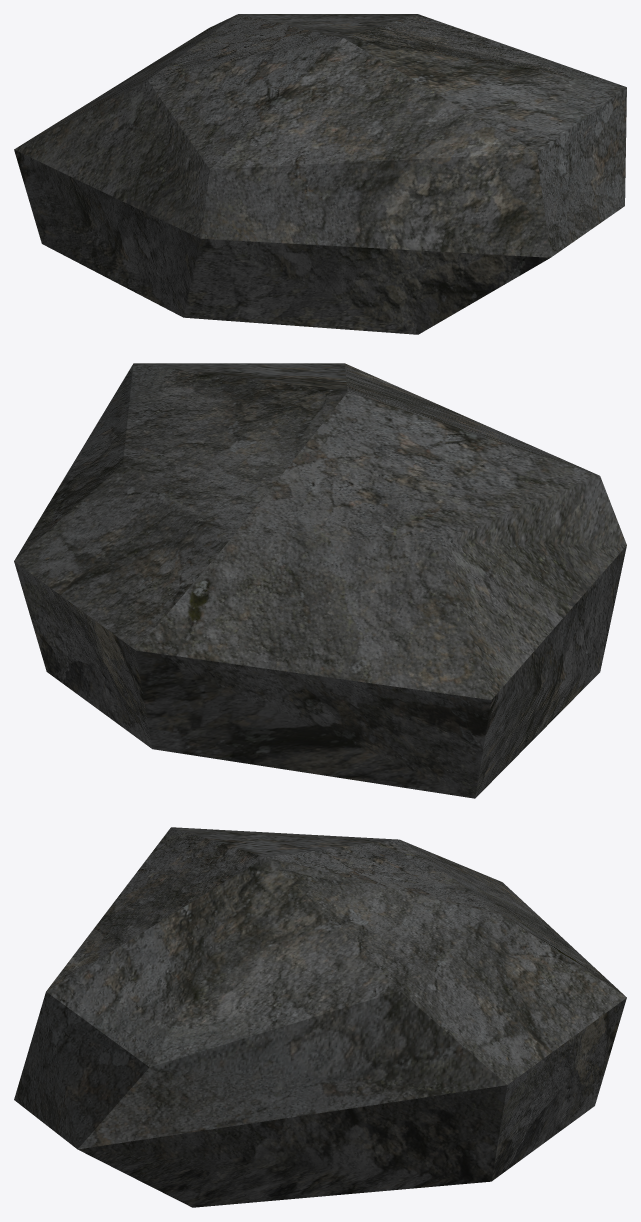
The model's file is Rock_5.fbx.
The picture shows the model from 3 angles, top to bottom: view 1: azimuth 30°, elevation 25°; view 2: azimuth 150°, elevation 25°; view 3: azimuth 270°, elevation 25°; orthographic projection. The views are drawn at different scales.
Visible parts, largest first — view 1: Rock_5; view 2: Rock_5; view 3: Rock_5.
Boxes of the visible parts, x1=… form: Rock_5: x1=14, y1=14, x2=626, y2=334; Rock_5: x1=14, y1=363, x2=626, y2=798; Rock_5: x1=14, y1=827, x2=626, y2=1207.
Bounding box in the file's own units: 131 × 75.67 × 131.
